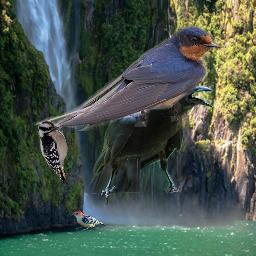Crow: (89, 81, 214, 205)
Swallow: (34, 24, 222, 131)
Woodpecker: (38, 121, 75, 184), (69, 211, 105, 230)
